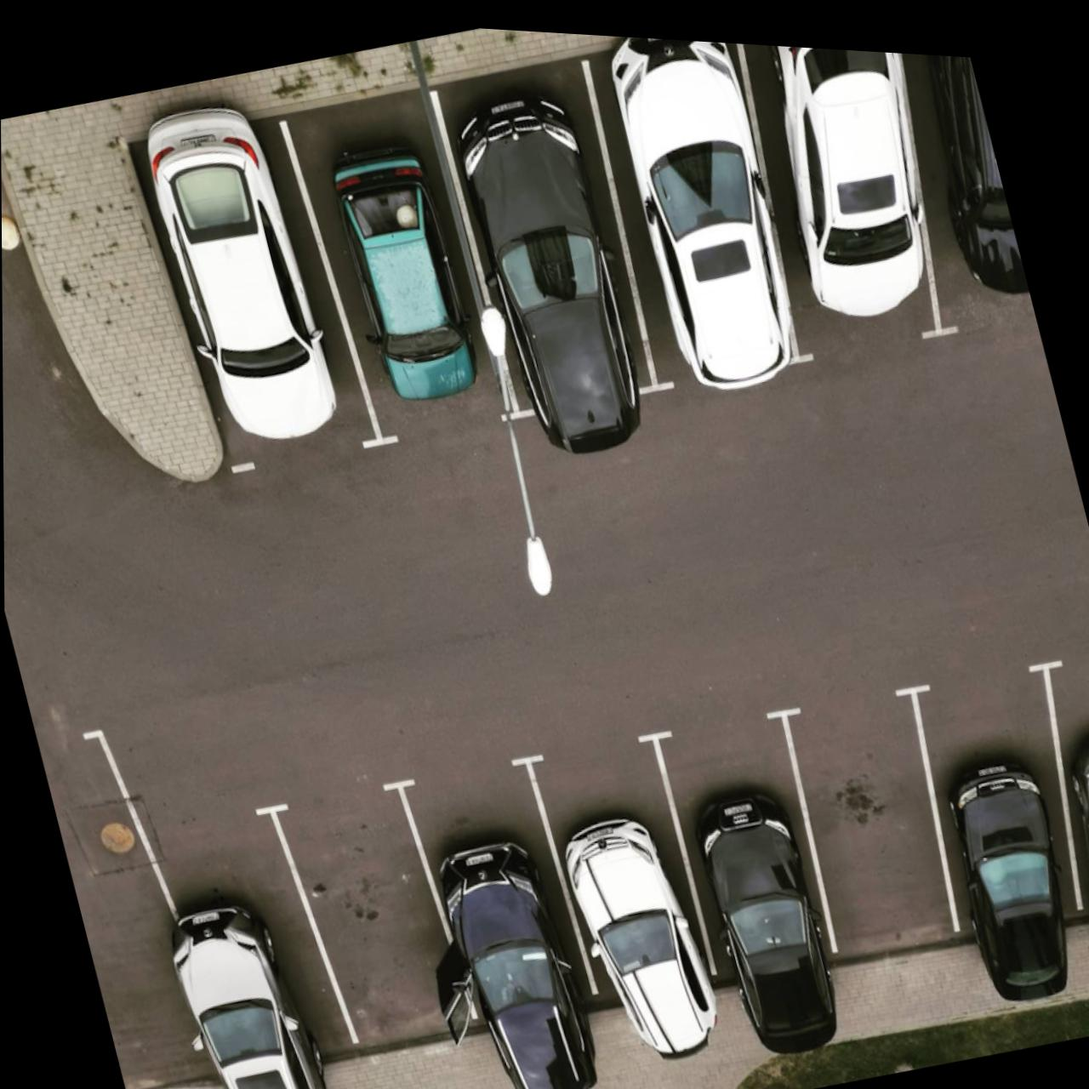cars: (124, 94, 375, 504), (280, 66, 522, 468), (430, 50, 665, 449), (582, 34, 808, 418), (725, 43, 969, 398), (523, 719, 718, 1020), (394, 747, 589, 1048), (904, 657, 1089, 967), (648, 696, 839, 992), (158, 792, 348, 1089), (853, 51, 1037, 345), (1035, 648, 1089, 938)
empty: (272, 767, 470, 1072), (778, 681, 970, 984)
